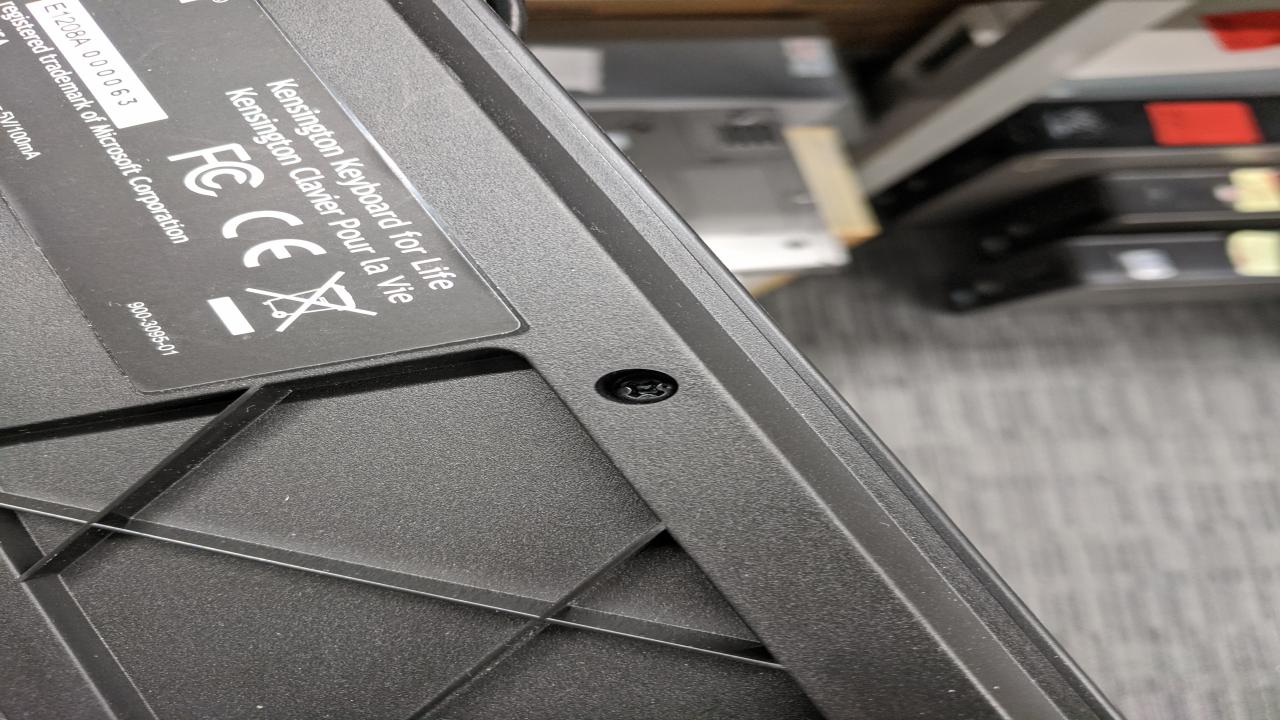CRS: (608, 371, 681, 404)
